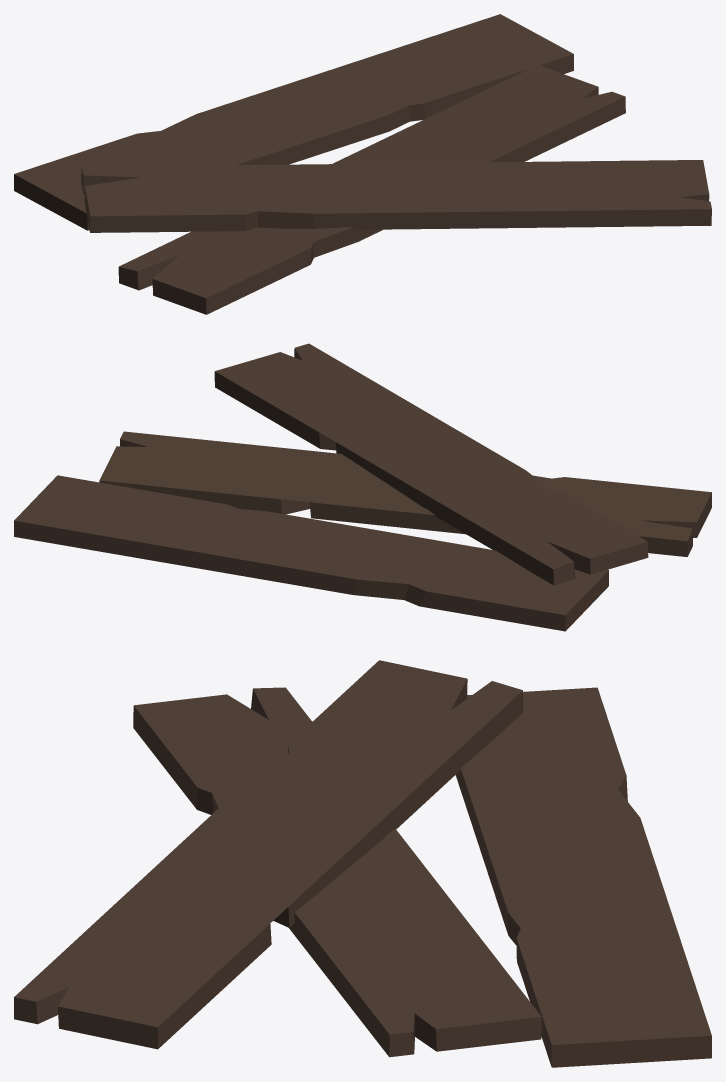
File: Boards.fbx
The picture shows the model from 3 angles, top to bottom: view 1: azimuth 30°, elevation 25°; view 2: azimuth 150°, elevation 25°; view 3: azimuth 270°, elevation 25°; orthographic projection. The views are drawn at different scales.
Parts seen in each view (by area): view 1: Boards; view 2: Boards; view 3: Boards.
Part boxes in pixels (x1,y1,x2,y2): Boards: (14,14,711,314); Boards: (14,343,711,631); Boards: (14,660,711,1067).
Bounding box in the file's own units: 186 × 150 × 13.39.
